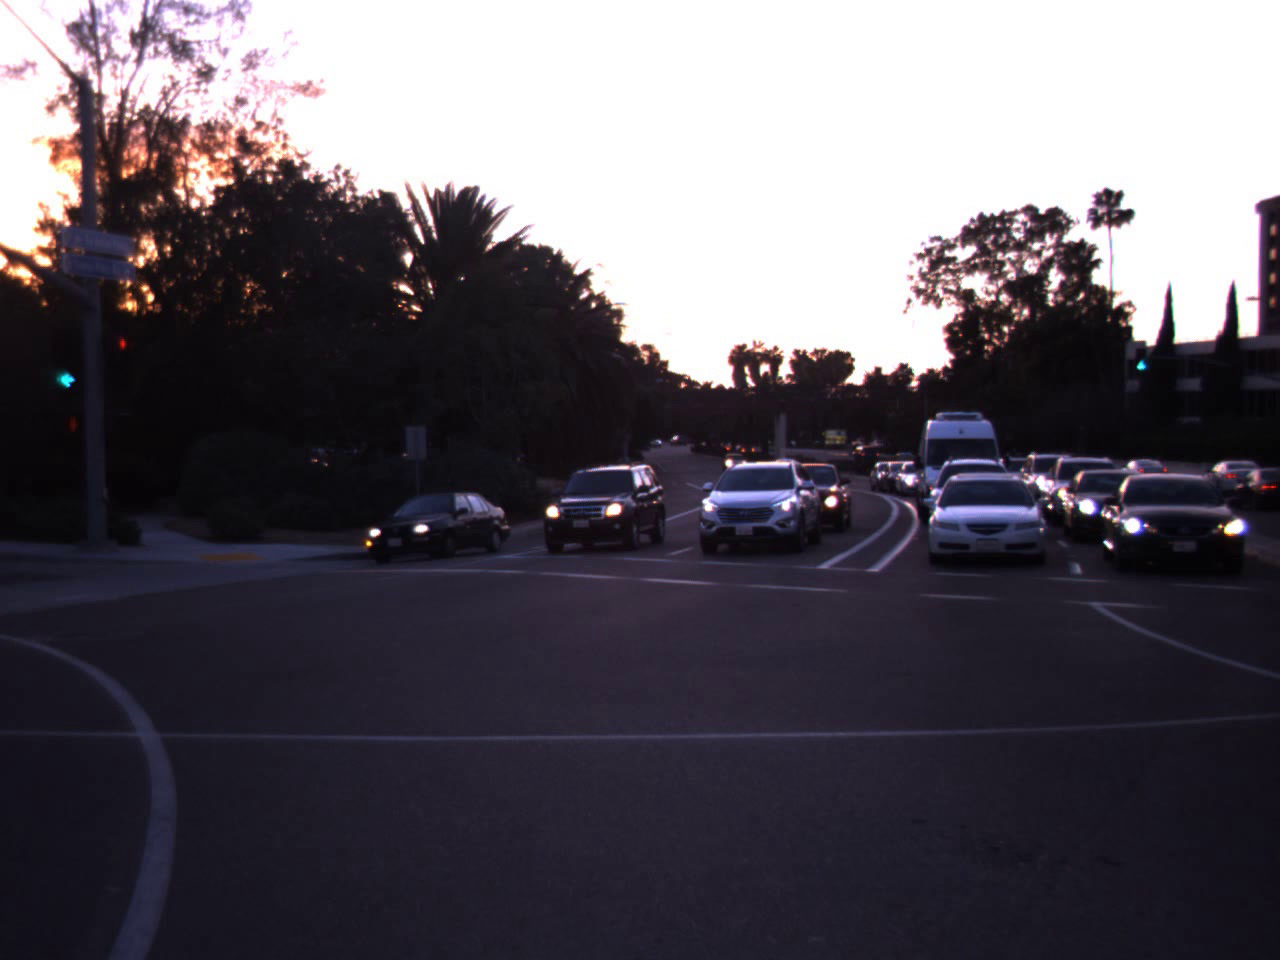go: (34, 311, 100, 396), (1132, 342, 1150, 372)
